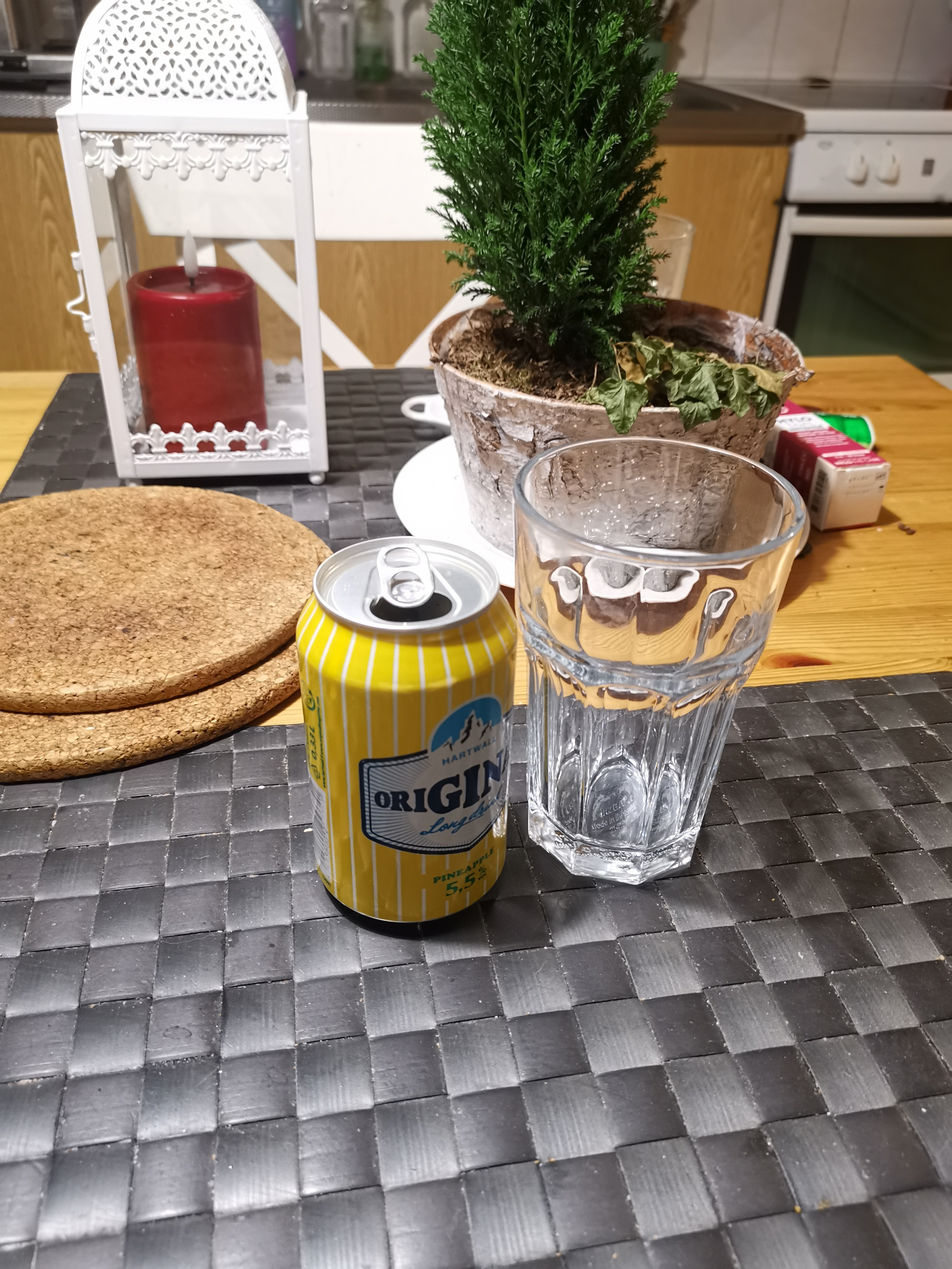Pantburk: (293, 533, 523, 926)
